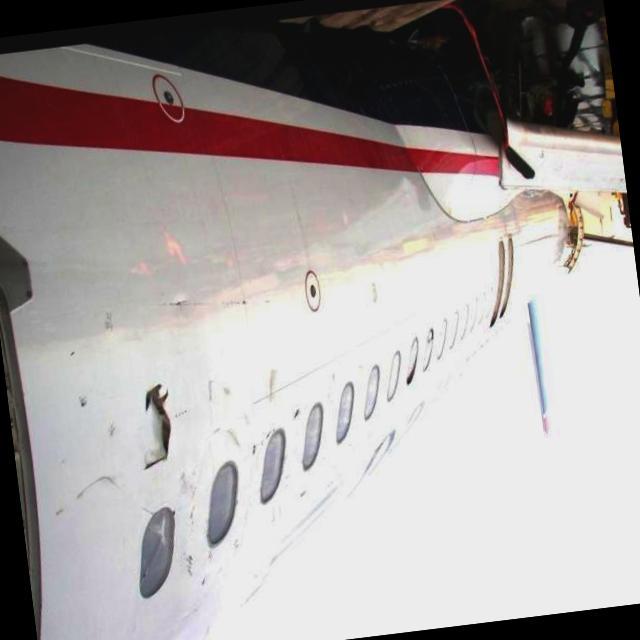crack: (126, 372, 183, 473)
